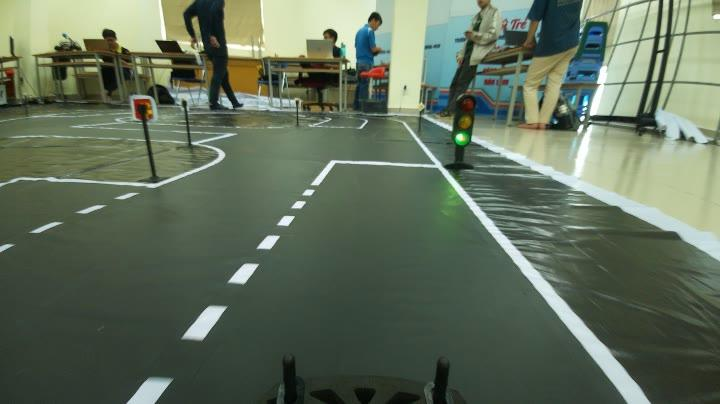trafficlight: (444, 87, 481, 176)
